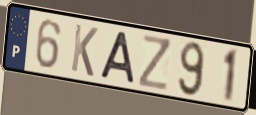1: (221, 46, 242, 107)
6: (35, 18, 63, 71)
9: (176, 40, 208, 99)
A: (98, 30, 137, 86)
K: (69, 22, 100, 80)
Z: (137, 33, 173, 94)
